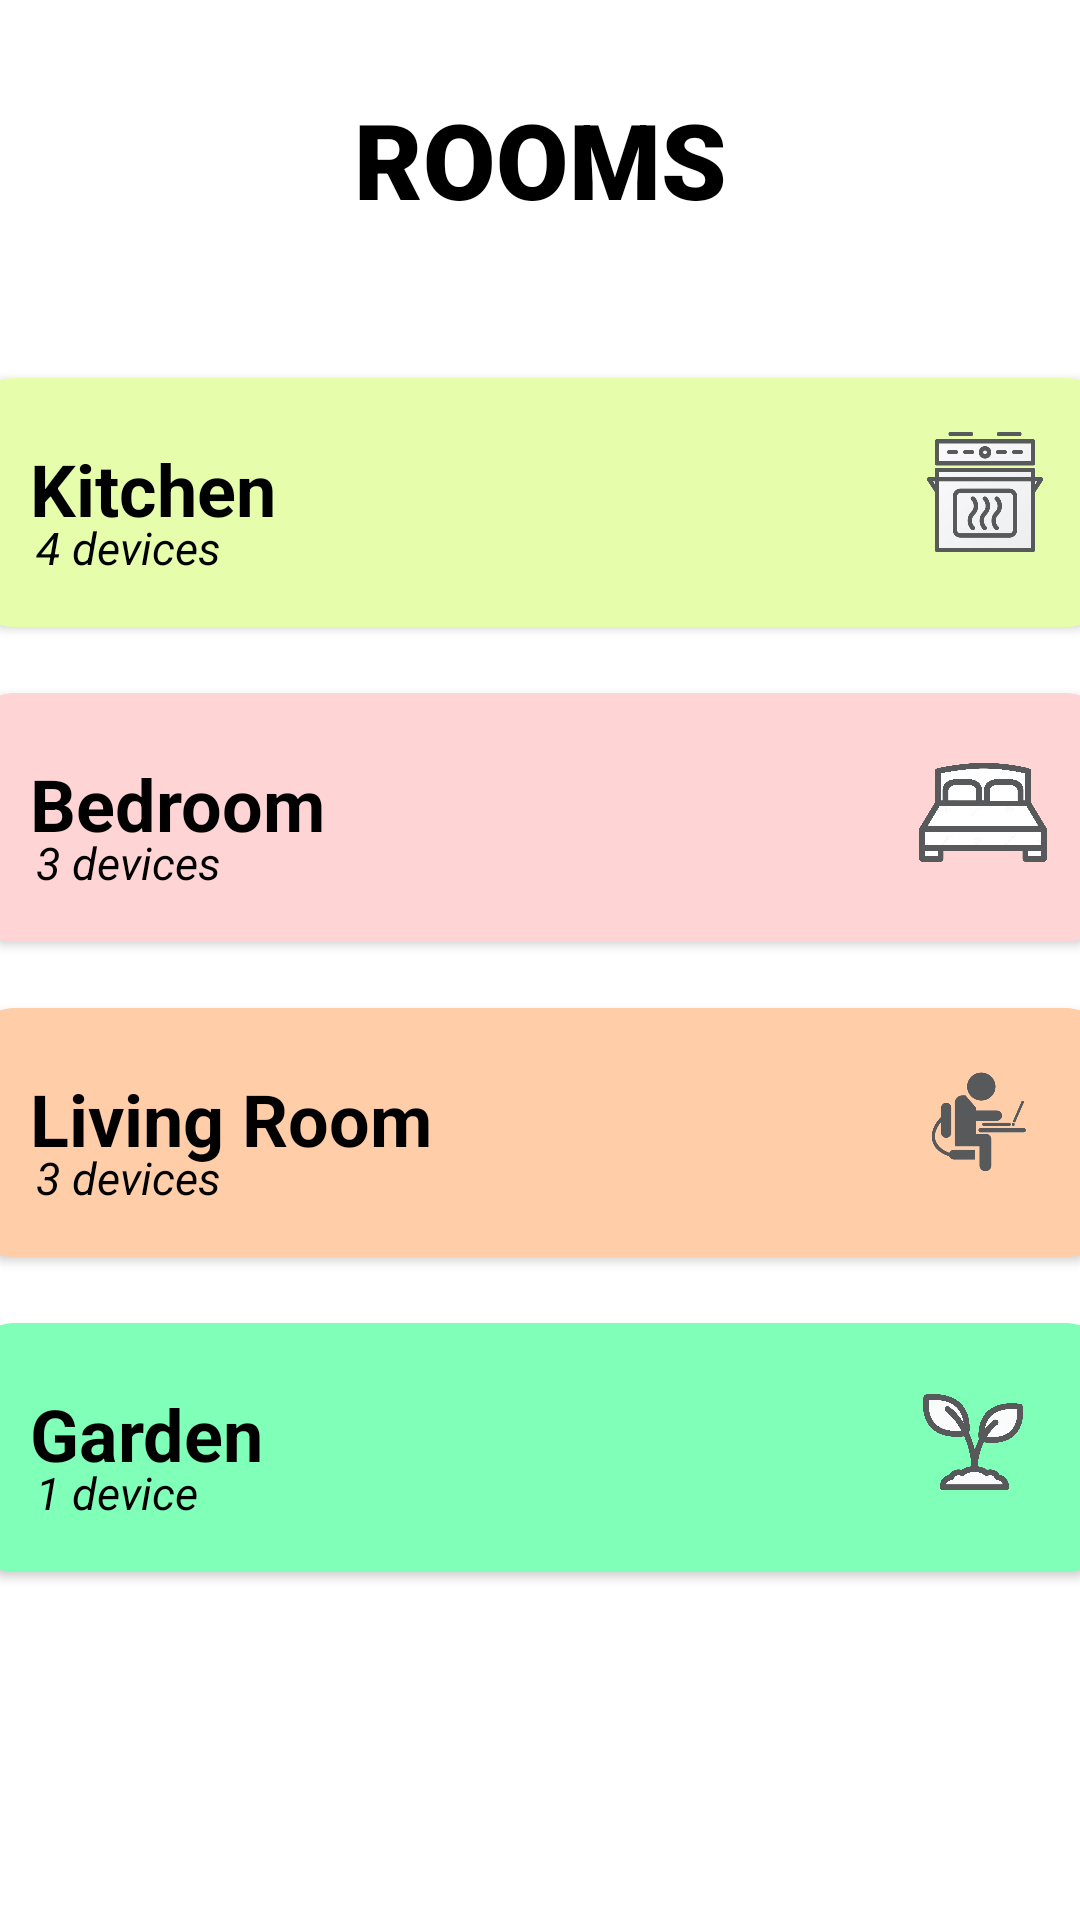

Screen size 1080w x 1920h. Icon name, then its box in pixels as (x1, y1, x2, y2):
bedroom symbol: (919, 763, 1047, 862)
garden symbol: (923, 1394, 1023, 1490)
